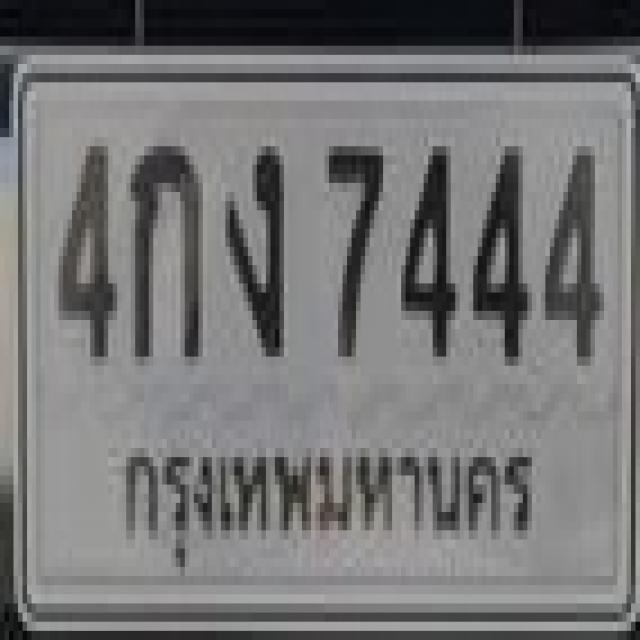license_plate: (14, 45, 640, 640)
